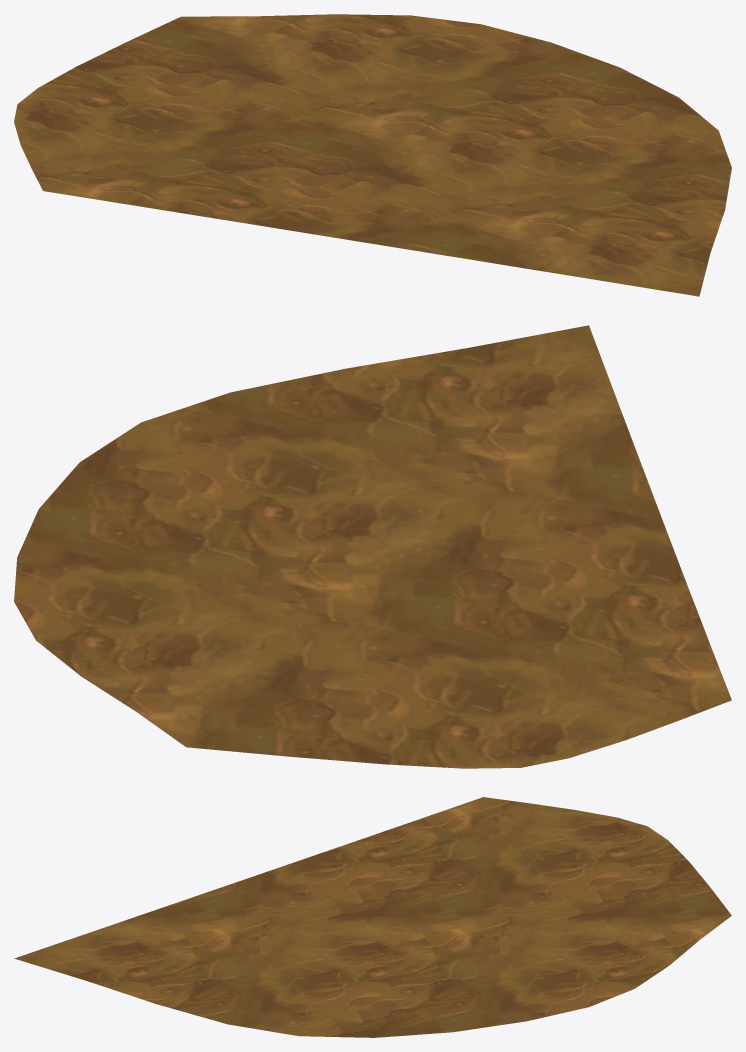
Rendered from HTOWN01_GARDEN01.obj.
The picture shows the model from 3 angles, top to bottom: view 1: azimuth 30°, elevation 25°; view 2: azimuth 150°, elevation 25°; view 3: azimuth 270°, elevation 25°; orthographic projection. The views are drawn at different scales.
Visible parts, largest first — view 1: Garden01; view 2: Garden01; view 3: Garden01.
Part boxes in pixels (x1,y1,x2,y2): Garden01: [14, 14, 731, 296]; Garden01: [14, 325, 731, 768]; Garden01: [14, 797, 731, 1037].
Size of the model in its own units: 746 by 3.7e-05 by 940.
